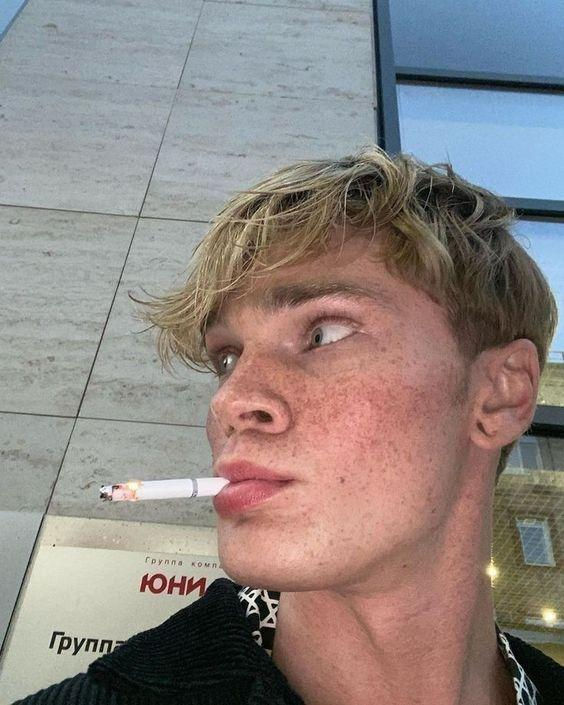cigarette: (99, 477, 231, 504)
